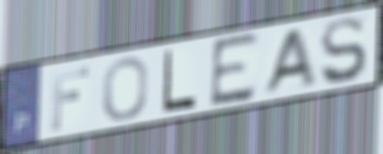A: (258, 25, 319, 98)
E: (208, 28, 262, 111)
F: (49, 64, 92, 133)
L: (161, 47, 199, 115)
O: (100, 55, 150, 123)
S: (318, 14, 370, 87)
